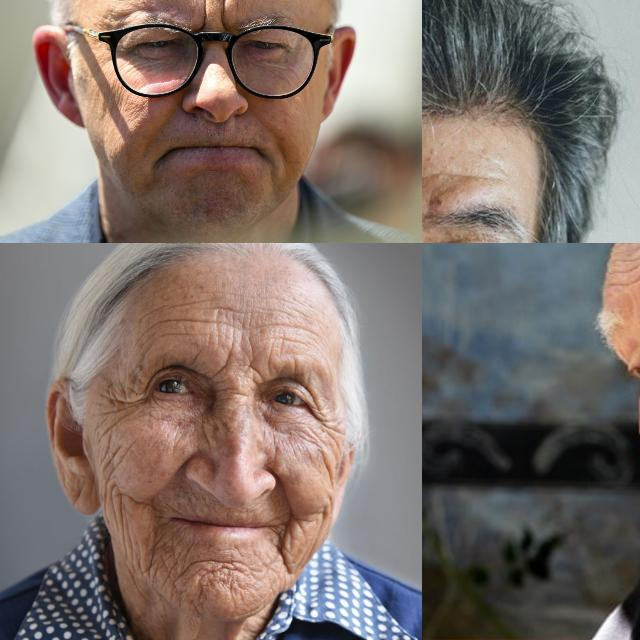bunny_line: (202, 413, 228, 447)
chin: (182, 552, 254, 590)
crows_feet: (99, 381, 153, 423), (309, 402, 339, 452)
forehead: (157, 300, 225, 340), (259, 316, 315, 350), (436, 162, 492, 188), (623, 243, 640, 281)
frown_line: (216, 354, 260, 396), (215, 0, 232, 35), (196, 0, 211, 29)
gummy_smile: (270, 472, 300, 526), (157, 452, 197, 488)
masseter: (103, 447, 133, 537), (314, 446, 344, 494), (314, 495, 334, 539)
sad_smile: (148, 503, 168, 557), (273, 526, 297, 570)
